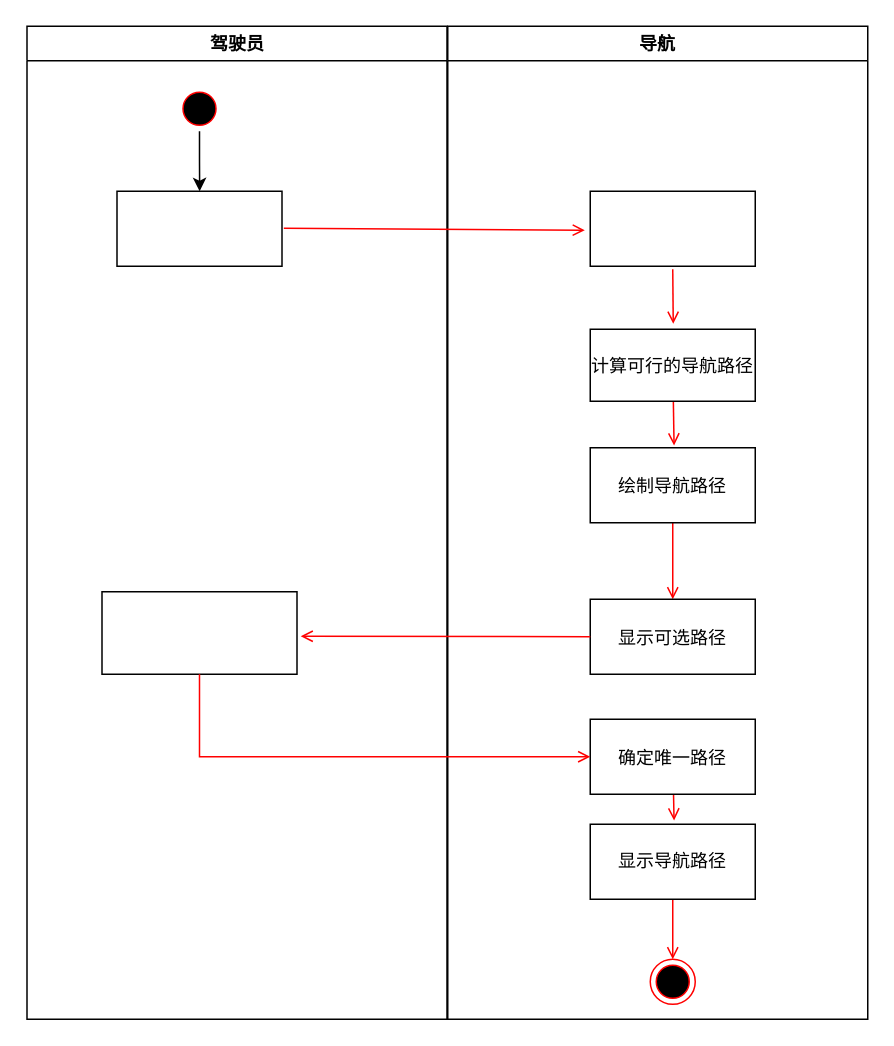
Some shapes in this 894 by 1046 pixel diagram are drawn without their labels. The shapes that lost their labels are listed below. From the top down, each one's centre as x and y in pixels, then its label:
point 199,228: 输入目的地
point 672,228: 导航数据获取
point 198,632: 根据偏好选择导航路径
